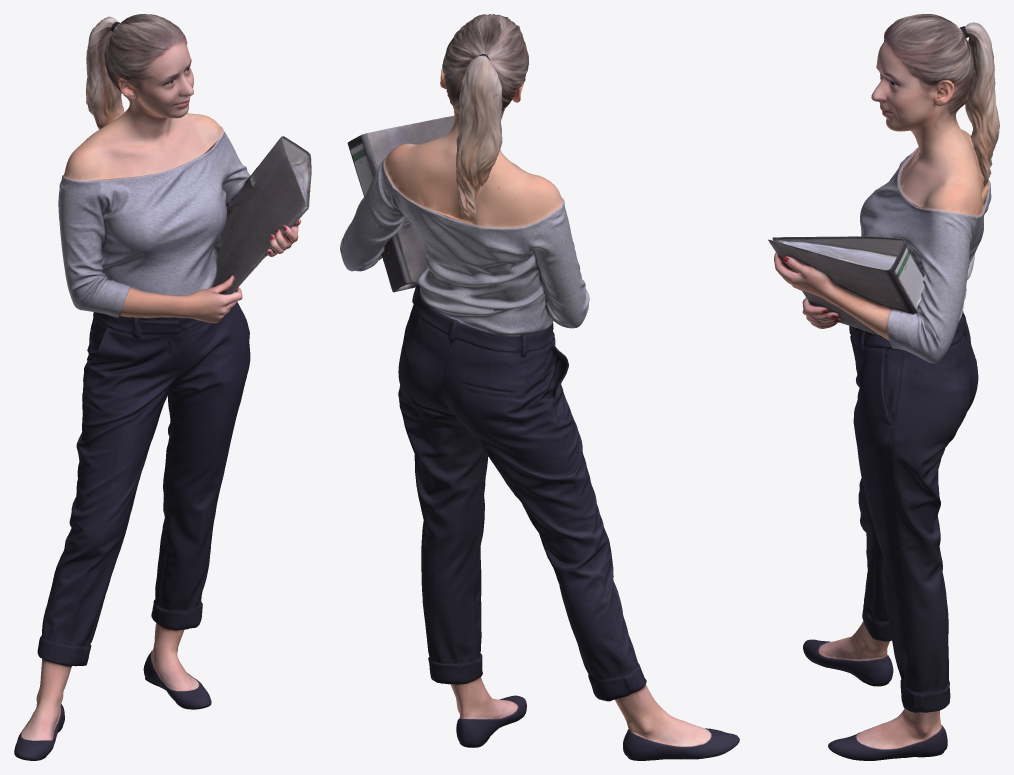
The model's file is person_woman_2.glb.
3 renders of one model, left to right at view 1: azimuth 30°, elevation 25°; view 2: azimuth 150°, elevation 25°; view 3: azimuth 270°, elevation 25°, orthographic. The views are drawn at different scales.
Parts seen in each view (by area): view 1: rw0220012; view 2: rw0220012; view 3: rw0220012.
Boxes of the visible parts, x1=… form: rw0220012: x1=14, y1=14, x2=311, y2=760; rw0220012: x1=340, y1=14, x2=739, y2=760; rw0220012: x1=768, y1=14, x2=999, y2=760.
Bounding box in the file's own units: 0.8414 × 1.65 × 0.475.
Materials: 1 (1 with a texture image).
